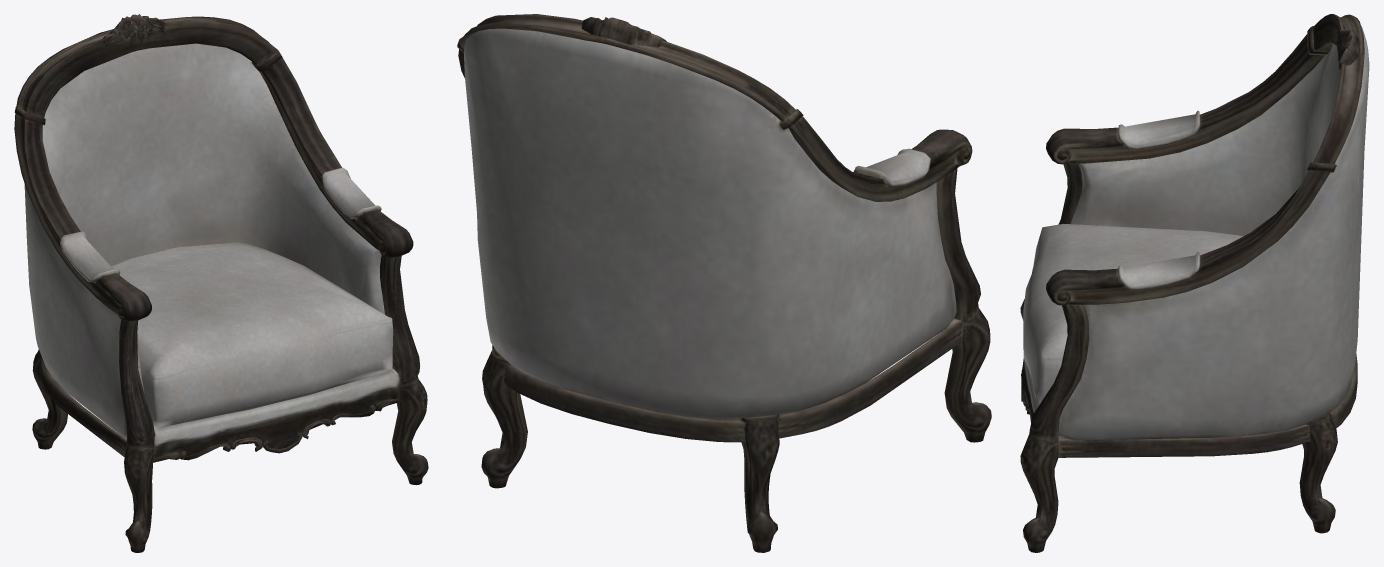
The model's file is ArmChair_01.glb.
3 renders of one model, left to right at view 1: azimuth 30°, elevation 25°; view 2: azimuth 150°, elevation 25°; view 3: azimuth 270°, elevation 25°, orthographic. The views are drawn at different scales.
Parts seen in each view (by area): view 1: ArmChair_01; view 2: ArmChair_01; view 3: ArmChair_01.
Part boxes in pixels (x1=…): ArmChair_01: x1=14, y1=14, x2=428, y2=552; ArmChair_01: x1=457, y1=14, x2=991, y2=552; ArmChair_01: x1=1020, y1=14, x2=1369, y2=552.
Bounding box in the file's own units: 0.8482 × 1.06 × 0.7658.
1 material, 1 textured.
